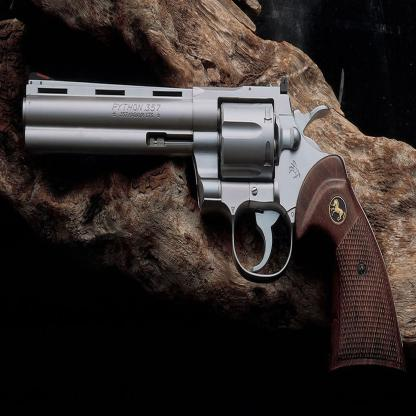handgun: (21, 68, 407, 376)
